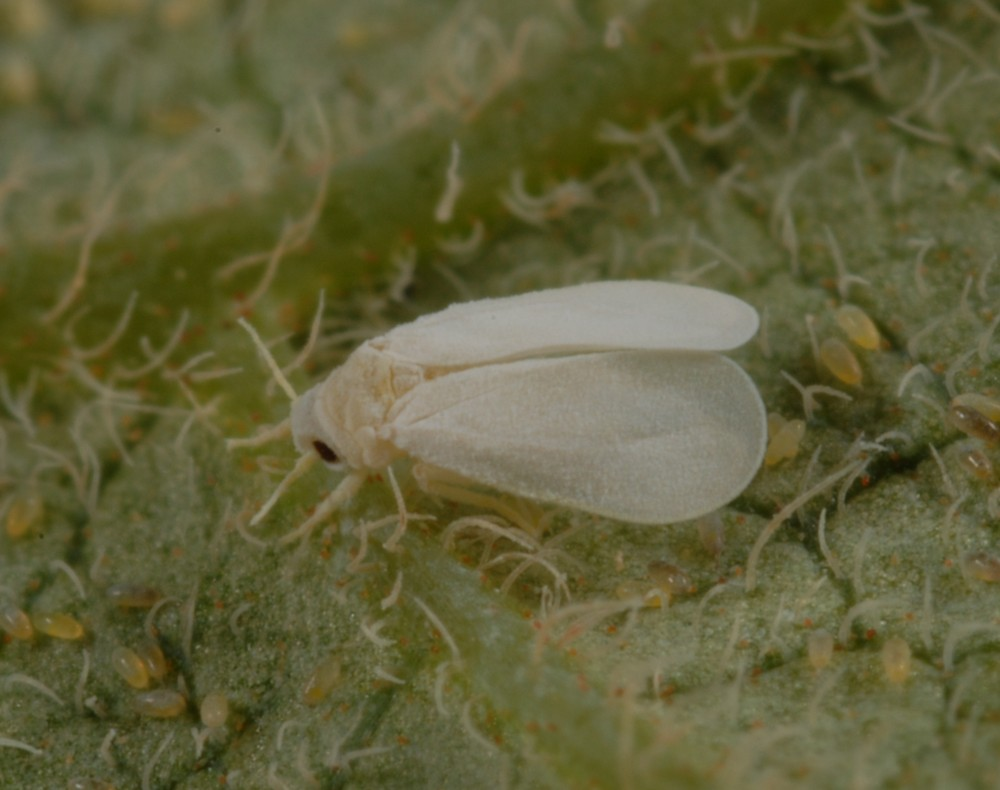Mosca Blanca: (201, 245, 802, 572)
